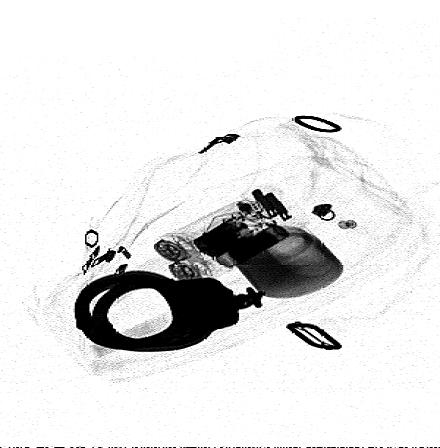HandCuffs: (74, 270, 265, 352)
